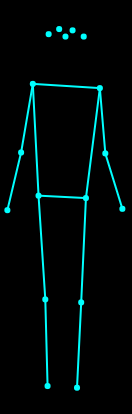mountain: (2, 22, 126, 394)
